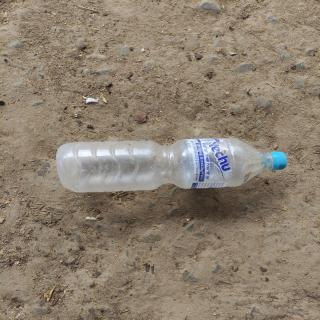Plastic-bottle: (54, 136, 295, 192)
